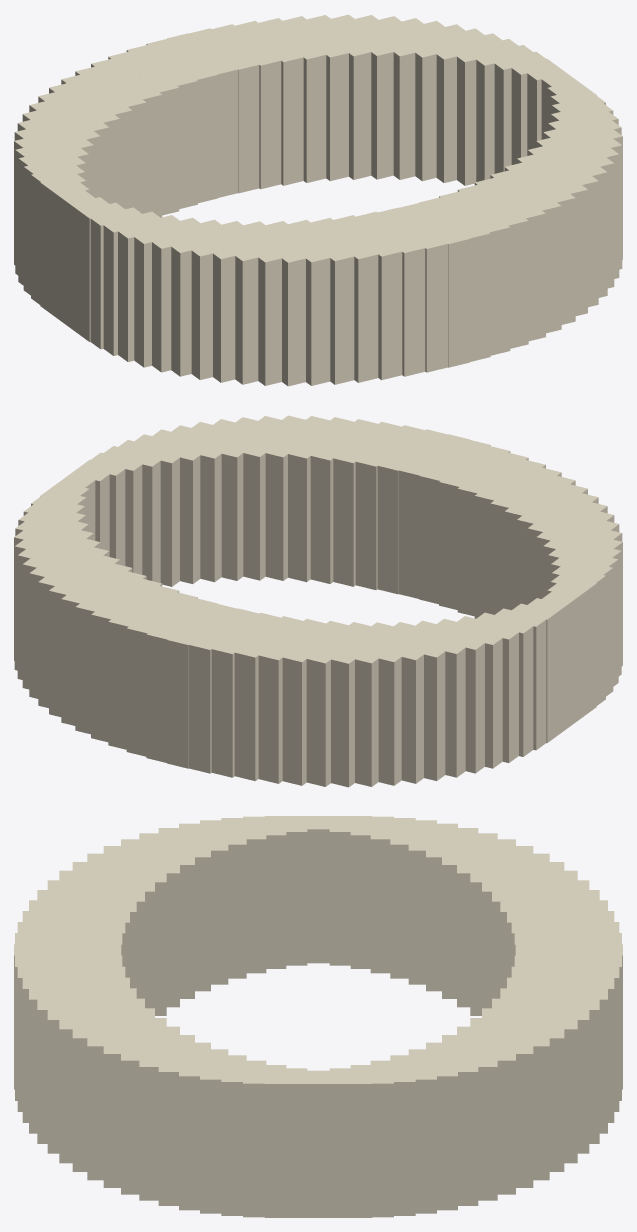
Rendered from place-el-djem-amphitheatre.glb.
3 views of the same model, one above another, from view 1: azimuth 30°, elevation 25°; view 2: azimuth 150°, elevation 25°; view 3: azimuth 270°, elevation 25° (orthographic). The views are drawn at different scales.
Visible parts, largest first — view 1: place-el-djem-amphitheatre; view 2: place-el-djem-amphitheatre; view 3: place-el-djem-amphitheatre.
Boxes of the visible parts, x1,y1,x2,y2 form: place-el-djem-amphitheatre: [14, 14, 622, 386]; place-el-djem-amphitheatre: [14, 415, 622, 787]; place-el-djem-amphitheatre: [14, 816, 622, 1217].
Size of the model in its own units: 154 by 36 by 148.
